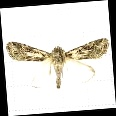Spodoptera litura: (7, 37, 111, 90)
